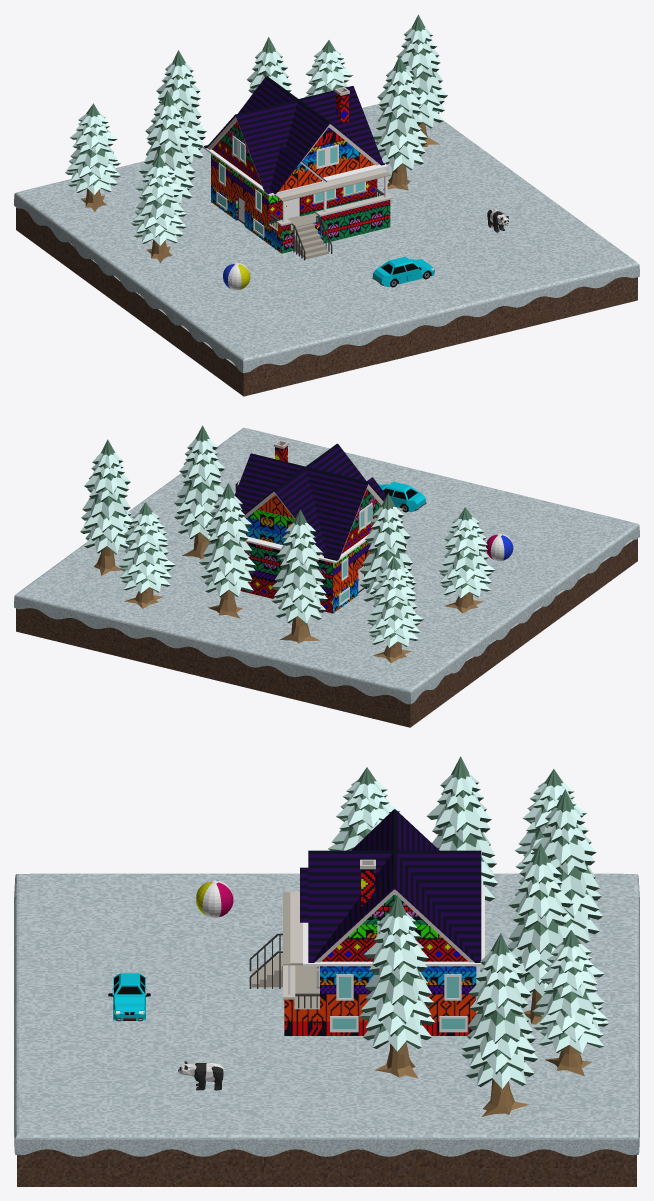
3 renders of one model, top to bottom at view 1: azimuth 30°, elevation 25°; view 2: azimuth 150°, elevation 25°; view 3: azimuth 270°, elevation 25°, orthographic. The views are drawn at different scales.
Parts seen in each view (by area): view 1: Cube.003, Cube.966, VEHICLES_CAR, OBJRANDOM_BEACHBALL; view 2: Cube.003, Cube.966, VEHICLES_CAR, OBJRANDOM_BEACHBALL; view 3: Cube.003, Cube.966, VEHICLES_CAR, OBJRANDOM_BEACHBALL, ANIMAL_PANDA.
Boxes of the visible parts, <box> form: Cube.003: <box>14,14,639,396</box>; Cube.966: <box>202,76,393,260</box>; VEHICLES_CAR: <box>372,256,434,287</box>; OBJRANDOM_BEACHBALL: <box>223,262,250,290</box>; Cube.003: <box>14,425,639,727</box>; Cube.966: <box>235,440,405,613</box>; VEHICLES_CAR: <box>378,481,426,512</box>; OBJRANDOM_BEACHBALL: <box>486,533,513,560</box>; Cube.003: <box>14,756,639,1186</box>; Cube.966: <box>249,809,484,1035</box>; VEHICLES_CAR: <box>108,973,150,1021</box>; OBJRANDOM_BEACHBALL: <box>196,880,233,917</box>; ANIMAL_PANDA: <box>178,1061,223,1090</box>.
Bounding box in the file's own units: 4040 × 1692 × 4040.
Materials: 40 (7 with a texture image).
